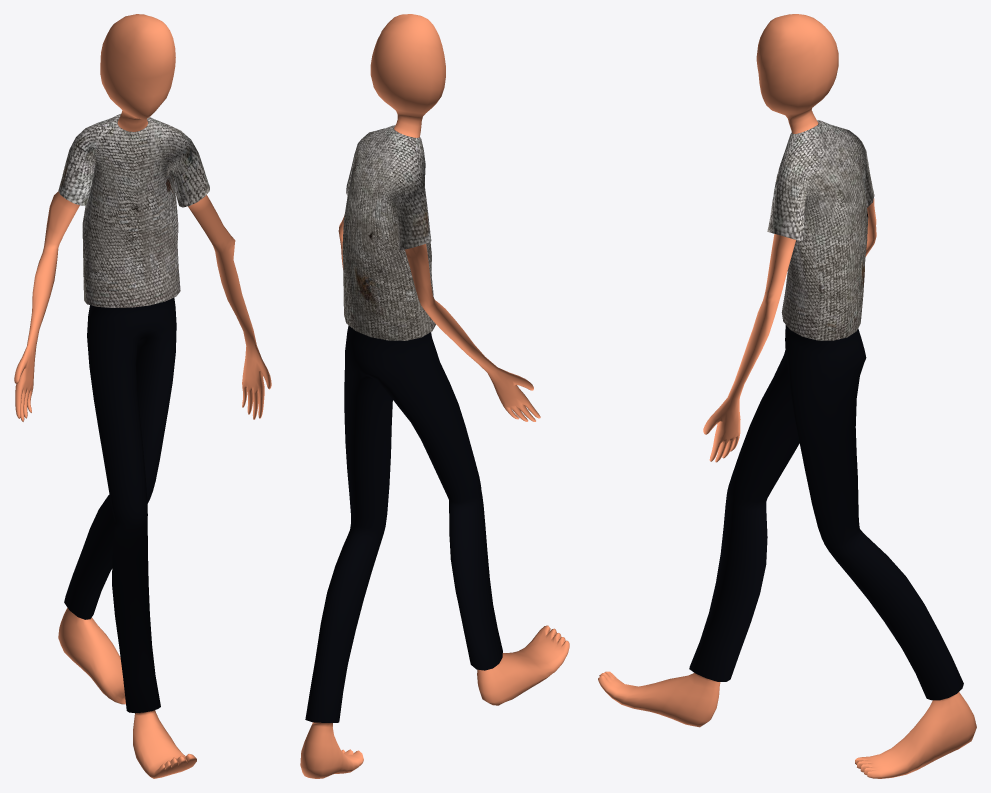
File: Player_Static.obj
3 renders of one model, left to right at view 1: azimuth 30°, elevation 25°; view 2: azimuth 150°, elevation 25°; view 3: azimuth 270°, elevation 25°, orthographic. The views are drawn at different scales.
Parts seen in each view (by area): view 1: pCube7; view 2: pCube7; view 3: pCube7.
Part boxes in pixels (box(x1,y1,x2,y2)): pCube7: box(14, 14, 271, 778); pCube7: box(300, 14, 569, 778); pCube7: box(598, 14, 976, 778).
Size of the model in its own units: 3.45 by 10.94 by 5.07.
Materials: 3 (1 with a texture image).
